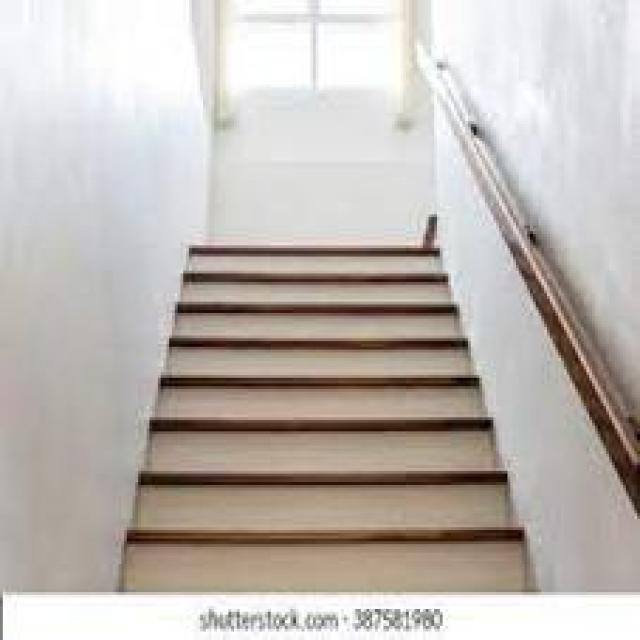stair: (122, 239, 531, 565)
